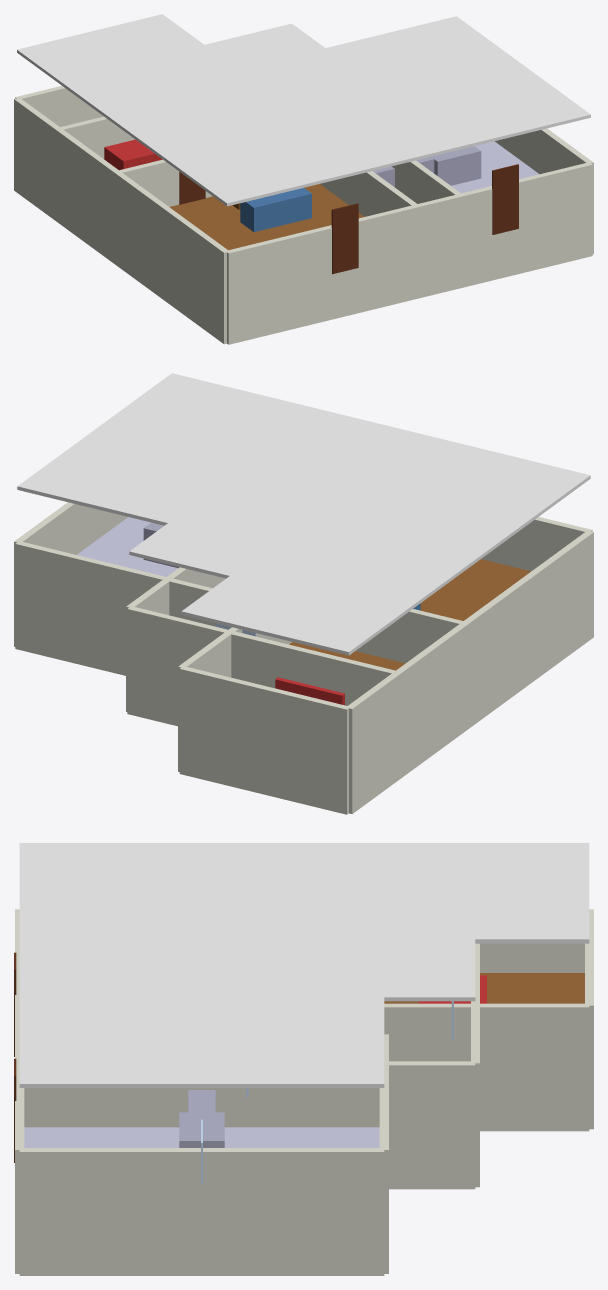
The model's file is realistic_house_1751799470.obj.
3 renders of one model, top to bottom at view 1: azimuth 30°, elevation 25°; view 2: azimuth 150°, elevation 25°; view 3: azimuth 270°, elevation 25°, orthographic. The views are drawn at different scales.
Visible parts, largest first — view 1: Living_Room_ceiling, Kitchen_ceiling, Living_Room_wall_0, Living_Room_wall_3, Kitchen_wall_0, Bedroom_ceiling, Bedroom_wall_3, Living_Room_floor, Kitchen_wall_1, Kitchen_wall_3, living_room_sofa, Bedroom_wall_2 (+10 smaller); view 2: Living_Room_ceiling, Kitchen_ceiling, Living_Room_wall_3, Bedroom_wall_2, Kitchen_wall_2, Living_Room_wall_2, Bedroom_wall_3, Bedroom_ceiling, Living_Room_floor, Kitchen_wall_1, Living_Room_wall_0, Bedroom_wall_0 (+5 smaller); view 3: Living_Room_ceiling, Kitchen_wall_1, Kitchen_ceiling, Living_Room_wall_1, Bedroom_wall_1, Bedroom_ceiling, Kitchen_floor, Bedroom_wall_3, Bedroom_floor, kitchen_island, Kitchen_wall_2, Kitchen_wall_0 (+4 smaller).
Boxes of the visible parts, x1,y1,x2,y2 form: Living_Room_ceiling: (59, 23, 458, 206); Kitchen_ceiling: (282, 16, 590, 160); Living_Room_wall_0: (226, 195, 461, 344); Living_Room_wall_3: (56, 128, 229, 344); Kitchen_wall_0: (415, 162, 592, 298); Bedroom_ceiling: (17, 14, 262, 124); Bedroom_wall_3: (14, 97, 116, 263); Living_Room_floor: (169, 184, 364, 250); Kitchen_wall_1: (495, 128, 593, 254); Kitchen_wall_3: (320, 171, 417, 216); living_room_sofa: (240, 188, 311, 232); Bedroom_wall_2: (15, 86, 103, 126); Living_Room_ceiling: (129, 410, 590, 619); Kitchen_ceiling: (17, 373, 371, 535); Living_Room_wall_3: (396, 531, 593, 777); Bedroom_wall_2: (179, 666, 350, 814); Kitchen_wall_2: (15, 541, 215, 675); Living_Room_wall_2: (127, 606, 398, 726); Bedroom_wall_3: (348, 625, 468, 813); Bedroom_ceiling: (181, 545, 463, 655); Living_Room_floor: (346, 559, 530, 667); Kitchen_wall_1: (14, 502, 127, 646); Living_Room_wall_0: (481, 517, 592, 571); Bedroom_wall_0: (356, 609, 466, 663); Living_Room_ceiling: (19, 843, 475, 1001); Kitchen_wall_1: (19, 1148, 384, 1275); Kitchen_ceiling: (19, 968, 384, 1087); Living_Room_wall_1: (24, 1061, 475, 1189); Bedroom_wall_1: (384, 1003, 589, 1131); Bedroom_ceiling: (316, 843, 589, 943); Kitchen_floor: (24, 1127, 379, 1147); Bedroom_wall_3: (480, 943, 584, 972); Bedroom_floor: (385, 973, 584, 1003); kitchen_island: (179, 1112, 224, 1147); Kitchen_wall_2: (379, 1034, 388, 1273); Kitchen_wall_0: (15, 1034, 24, 1273).
Size of the model in its own units: 13.3 by 4.6 by 12.73.
